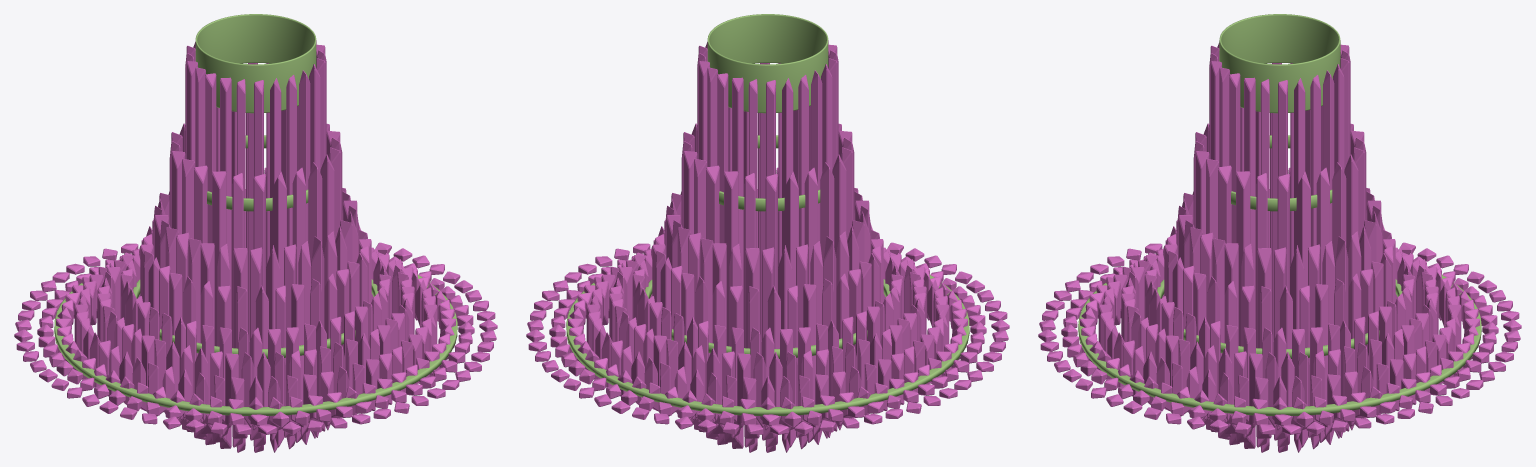
The model's file is ObservationRoomChandelier.fbx.
3 views of the same model, side by side, from view 1: azimuth 30°, elevation 25°; view 2: azimuth 150°, elevation 25°; view 3: azimuth 270°, elevation 25° (orthographic).
Parts seen in each view (by area): view 1: ObservationRoomChandelier001; view 2: ObservationRoomChandelier001; view 3: ObservationRoomChandelier001.
Part boxes in pixels (<box>): ObservationRoomChandelier001: <box>14,14,497,452</box>; ObservationRoomChandelier001: <box>526,14,1009,452</box>; ObservationRoomChandelier001: <box>1038,14,1521,452</box>.
Bounding box in the file's own units: 595 × 522 × 595.
